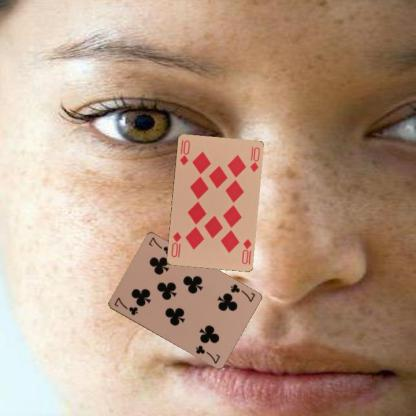10d: (238, 236, 252, 265), (176, 138, 190, 166)
7c: (228, 282, 256, 304), (112, 294, 138, 316)
